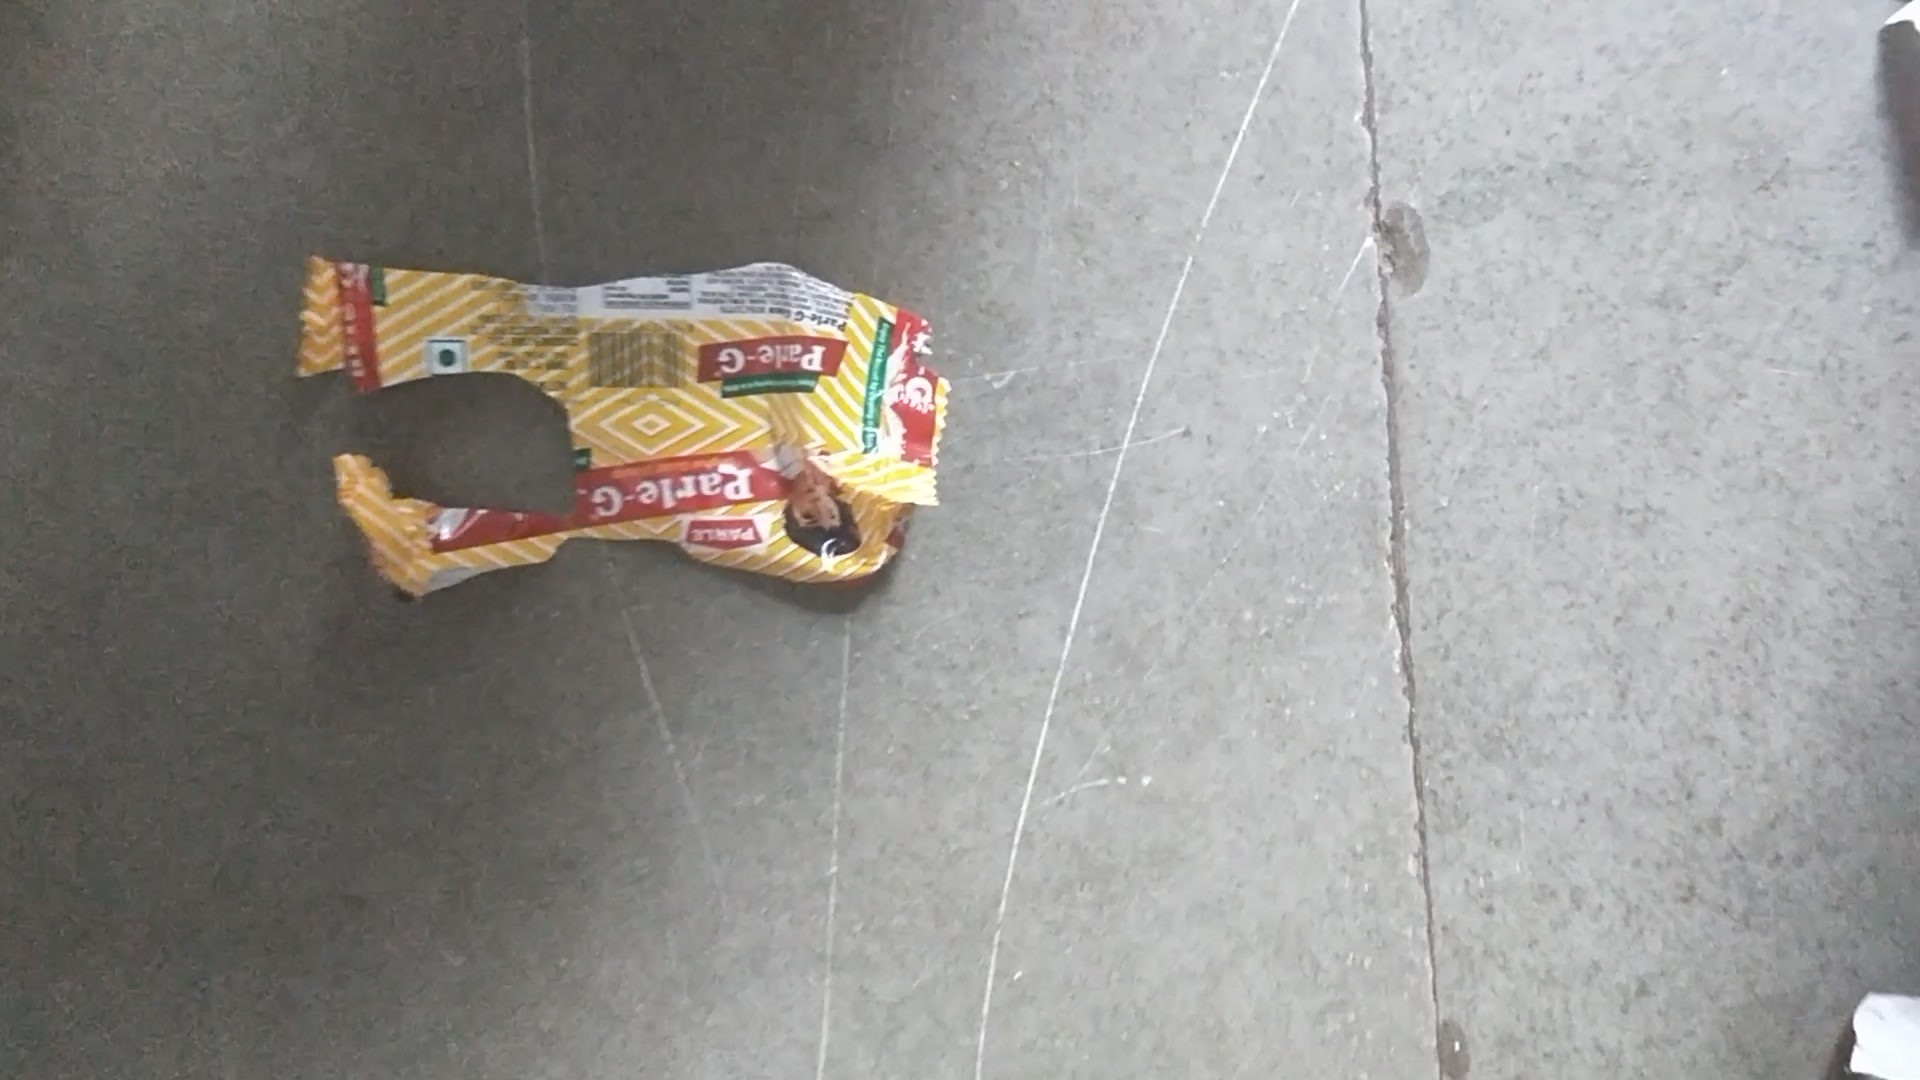parle-g-b: (338, 282, 891, 568)
